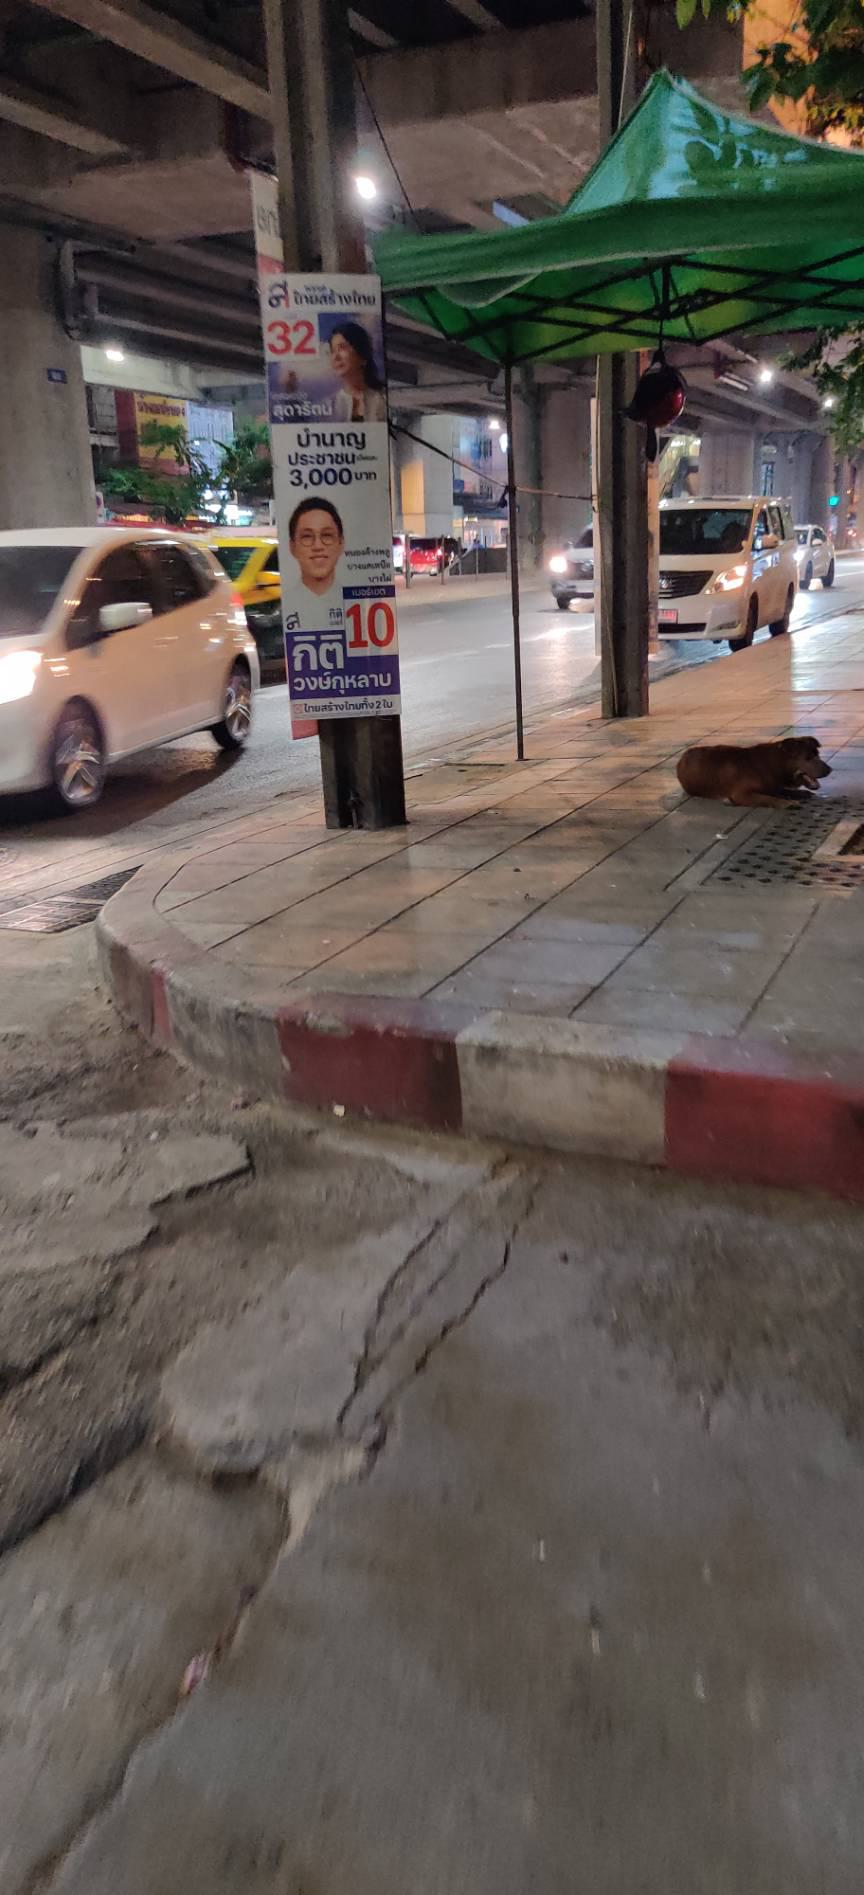Banner: (233, 241, 442, 737)
